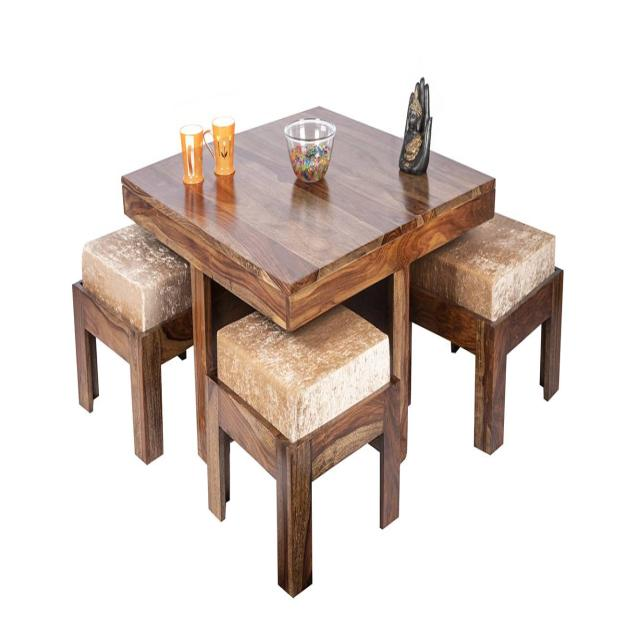obstacle: (80, 51, 518, 333), (218, 277, 421, 545), (428, 225, 588, 494), (78, 197, 194, 431)
